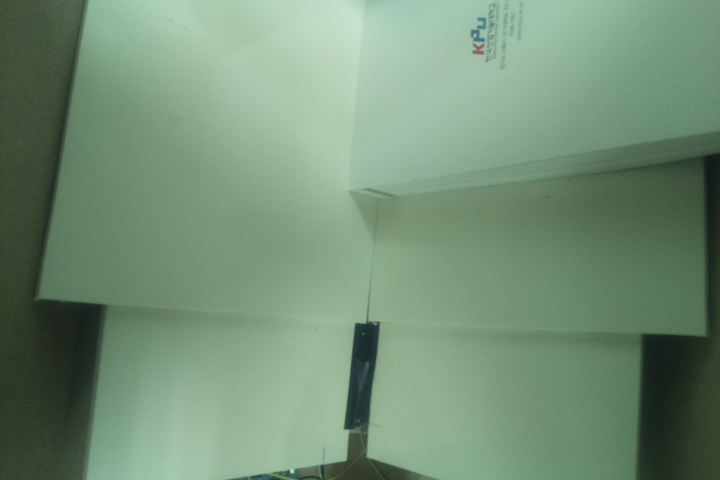book: (343, 1, 720, 203)
